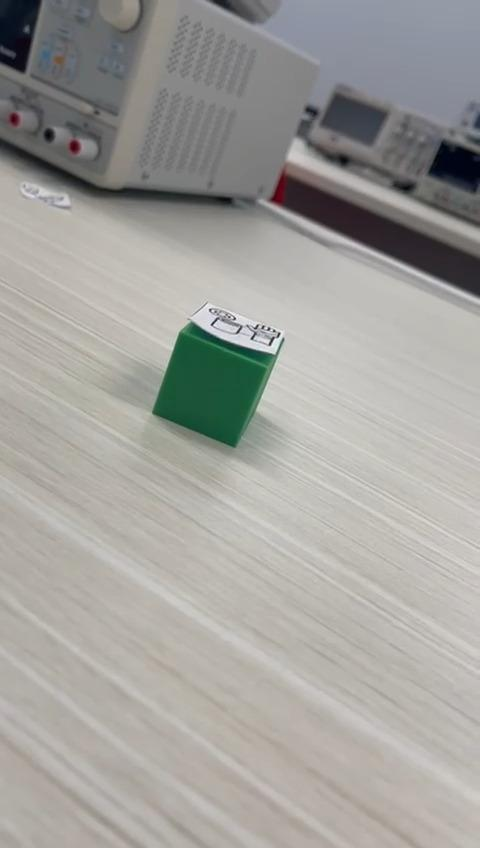Bandages: (151, 301, 287, 450)
